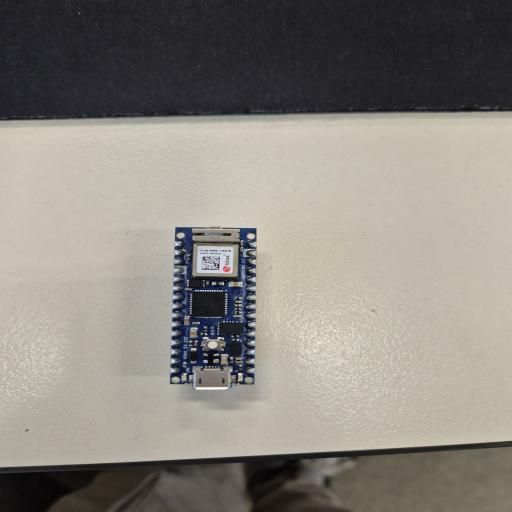arduino-nano-iot-33: (172, 224, 258, 387)
